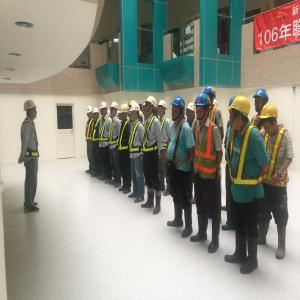blue: (195, 94, 212, 122), (254, 89, 270, 114), (171, 98, 186, 122), (205, 86, 217, 106)
white: (24, 101, 38, 120), (146, 96, 157, 115), (187, 103, 197, 121), (158, 101, 168, 118), (118, 106, 128, 123), (130, 105, 140, 121), (111, 103, 120, 118), (100, 102, 109, 117), (93, 108, 101, 122), (86, 106, 94, 119)
yellow: (229, 97, 252, 129), (260, 106, 280, 136)
